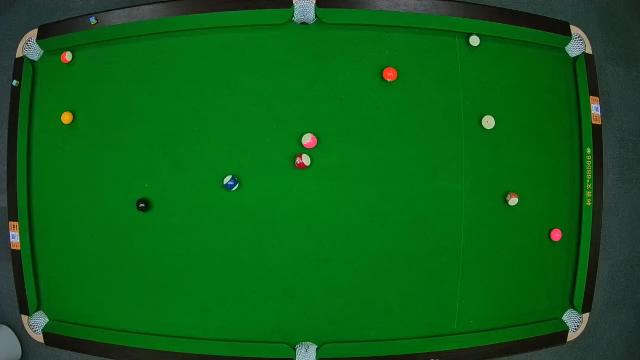bag1: (22, 38, 44, 62)
bag2: (293, 1, 315, 23)
bag3: (566, 34, 586, 57)
bag4: (29, 308, 49, 334)
bag5: (294, 342, 320, 360)
bag6: (562, 310, 582, 332)
ball0: (480, 114, 496, 131)
ball1: (60, 110, 76, 126)
ball10: (220, 176, 240, 192)
ball11: (296, 152, 312, 172)
ball12: (300, 134, 318, 150)
ball13: (60, 50, 74, 63)
ball14: (466, 33, 482, 49)
ball15: (506, 190, 520, 206)
ball4: (548, 226, 564, 242)
ball5: (382, 66, 398, 84)
ball8: (134, 198, 150, 214)
